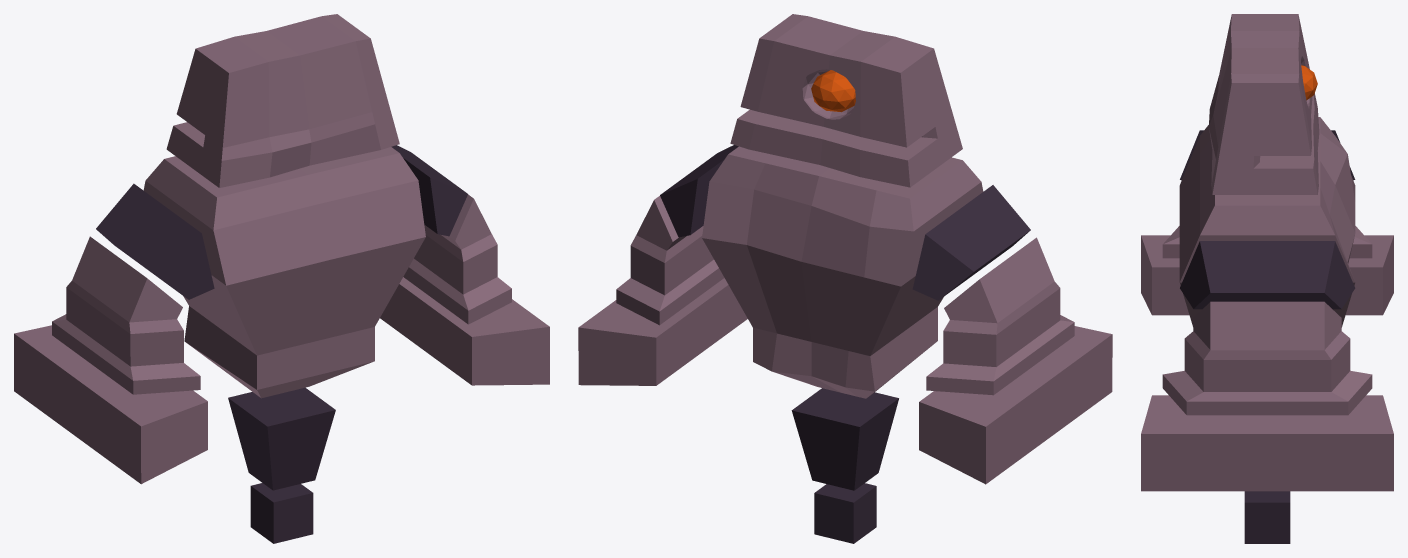
Rendered from kiro.fbx.
3 views of the same model, side by side, from view 1: azimuth 30°, elevation 25°; view 2: azimuth 150°, elevation 25°; view 3: azimuth 270°, elevation 25° (orthographic).
Visible parts, largest first — view 1: Cube, Cube.004, Cube.003, Cube.001, Cube.002; view 2: Cube, Cube.004, Cube.003, Cube.001, Cube.002, Icosphere.001; view 3: Cube, Cube.004, Cube.003, Cube.002, Icosphere.001.
Part boxes in pixels (left/top/right/bottom): Cube: left=14, top=147, right=549, bottom=484; Cube.004: left=166, top=14, right=399, bottom=187; Cube.003: left=96, top=145, right=467, bottom=299; Cube.001: left=228, top=387, right=335, bottom=490; Cube.002: left=250, top=483, right=313, bottom=543; Cube: left=578, top=146, right=1112, bottom=484; Cube.004: left=730, top=14, right=962, bottom=187; Cube.003: left=660, top=145, right=1030, bottom=300; Cube.001: left=791, top=388, right=898, bottom=490; Cube.002: left=814, top=483, right=876, bottom=543; Icosphere.001: left=811, top=70, right=855, bottom=112; Cube: left=1141, top=117, right=1393, bottom=491; Cube.004: left=1209, top=14, right=1319, bottom=194; Cube.003: left=1180, top=130, right=1355, bottom=309; Cube.002: left=1244, top=491, right=1290, bottom=543; Icosphere.001: left=1301, top=65, right=1317, bottom=100.
Size of the model in its own units: 262 by 301 by 141.
